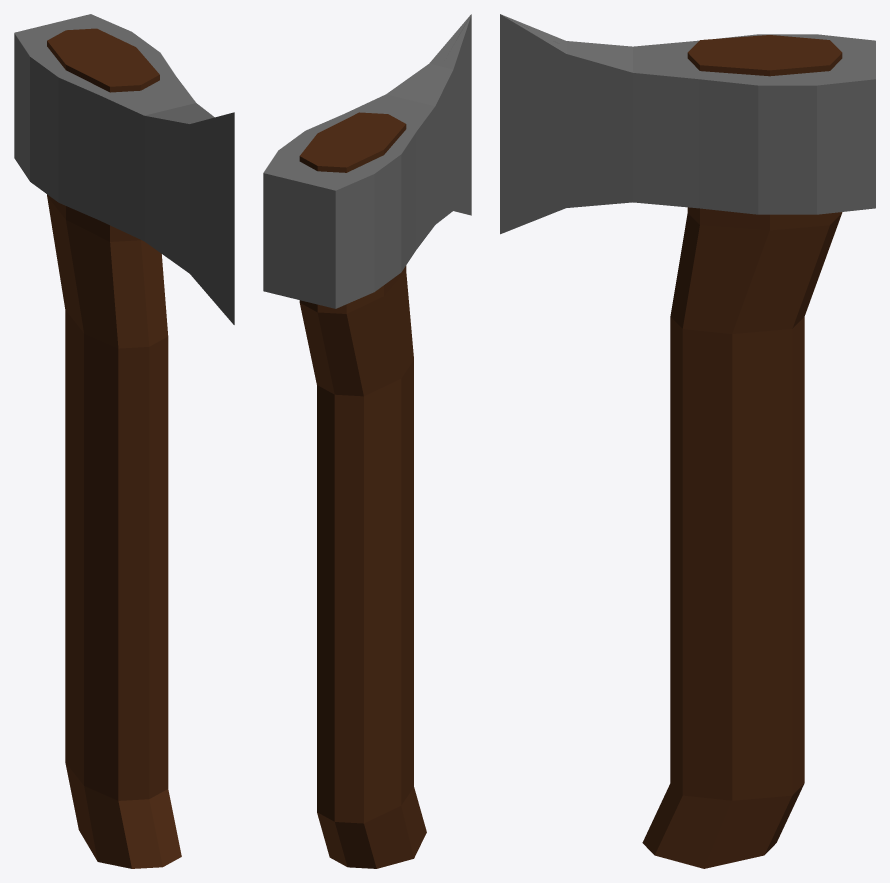
File: AxeMid.fbx
3 views of the same model, side by side, from view 1: azimuth 30°, elevation 25°; view 2: azimuth 150°, elevation 25°; view 3: azimuth 270°, elevation 25° (orthographic). The views are drawn at different scales.
Parts seen in each view (by area): view 1: Cylinder, Cube; view 2: Cylinder, Cube; view 3: Cylinder, Cube.
Boxes of the visible parts, x1,y1,x2,y2 form: Cylinder: [47, 28, 181, 868]; Cube: [14, 14, 234, 324]; Cylinder: [299, 112, 426, 868]; Cube: [263, 14, 471, 308]; Cylinder: [642, 35, 842, 868]; Cube: [500, 14, 875, 234].
Size of the model in its own units: 289 by 2205 by 895.
